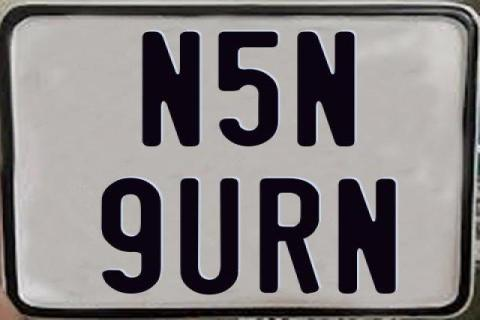0: (102, 176, 164, 293), (218, 30, 278, 146)
N: (140, 31, 204, 147), (336, 177, 397, 297), (296, 30, 356, 148)
R: (257, 176, 320, 295)
U: (178, 178, 240, 298)
